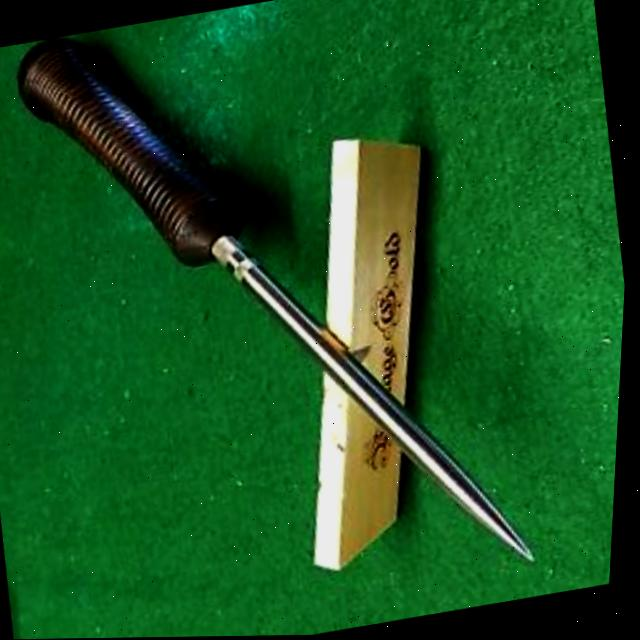ice pick: (0, 0, 567, 640)
